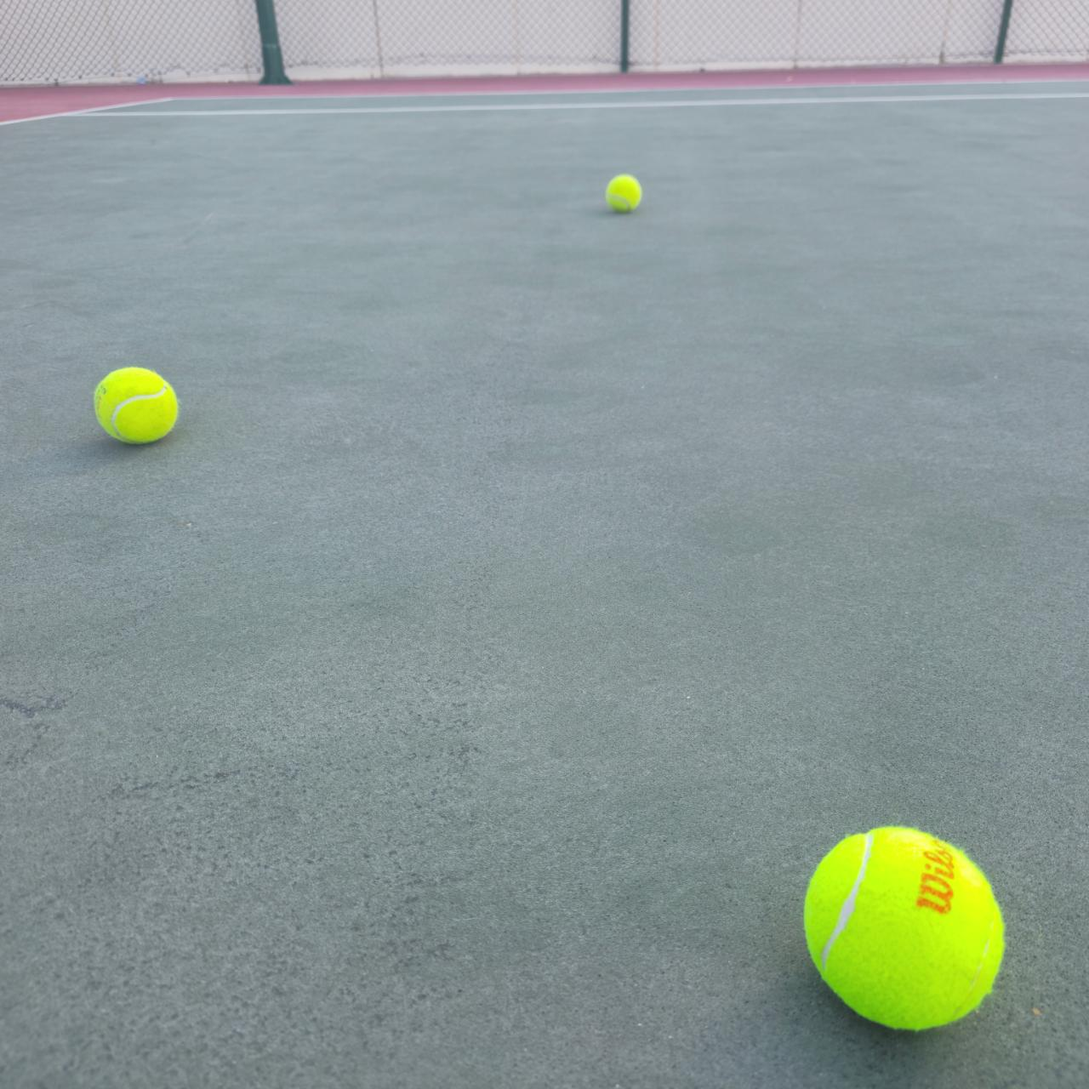tennis-ball: (800, 821, 1007, 1033), (93, 367, 179, 446), (605, 174, 643, 214)
